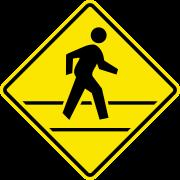Pedestrian Crossing: (12, 10, 165, 160)
